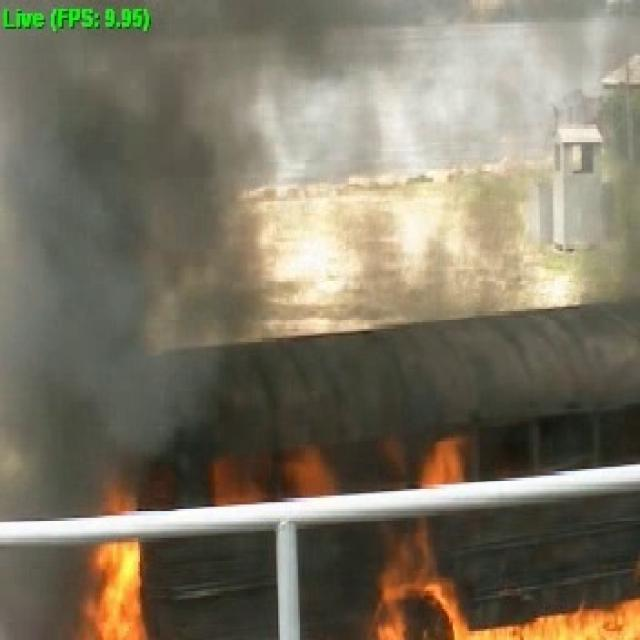fire: (85, 544, 148, 640)
smoke: (45, 93, 223, 424)
